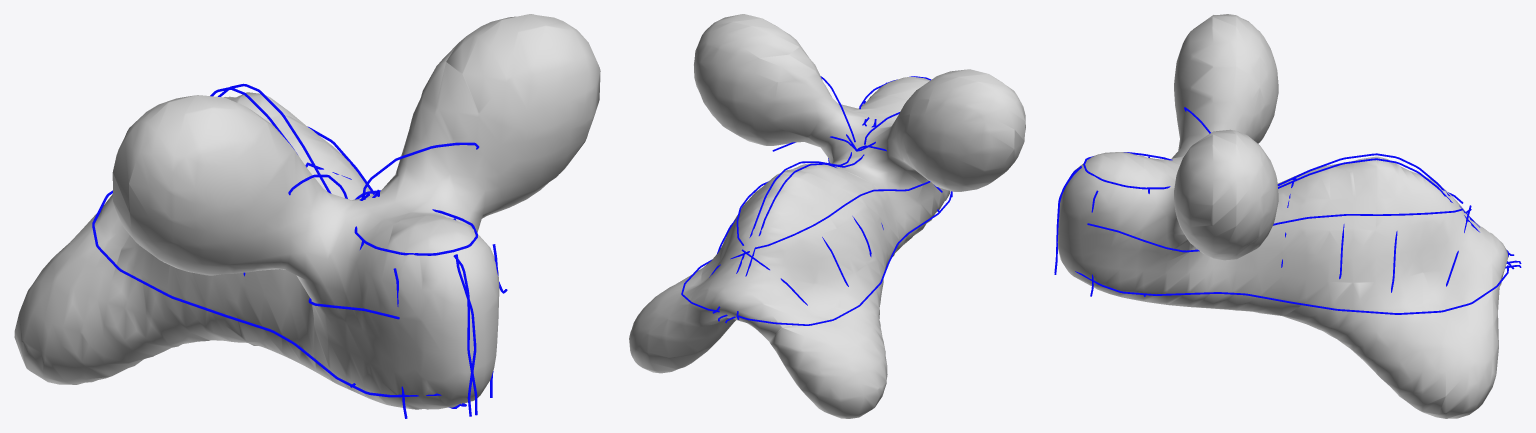
File: cassie_p12_shoe_sketch_proxy.glb
The picture shows the model from 3 angles, left to right: view 1: azimuth 30°, elevation 25°; view 2: azimuth 150°, elevation 25°; view 3: azimuth 270°, elevation 25°; orthographic projection. The views are drawn at different scales.
Visible parts, largest first — view 1: cassie_p12_shoe_surface, cassie_p12_shoe; view 2: cassie_p12_shoe_surface, cassie_p12_shoe; view 3: cassie_p12_shoe_surface, cassie_p12_shoe.
Part boxes in pixels (<box>): cassie_p12_shoe_surface: <box>14,14,600,409</box>; cassie_p12_shoe: <box>92,83,507,418</box>; cassie_p12_shoe_surface: <box>629,14,1025,418</box>; cassie_p12_shoe: <box>681,76,952,325</box>; cassie_p12_shoe_surface: <box>1057,14,1508,418</box>; cassie_p12_shoe: <box>1054,107,1521,314</box>.
Size of the model in its own units: 0.8476 by 0.6774 by 1.
